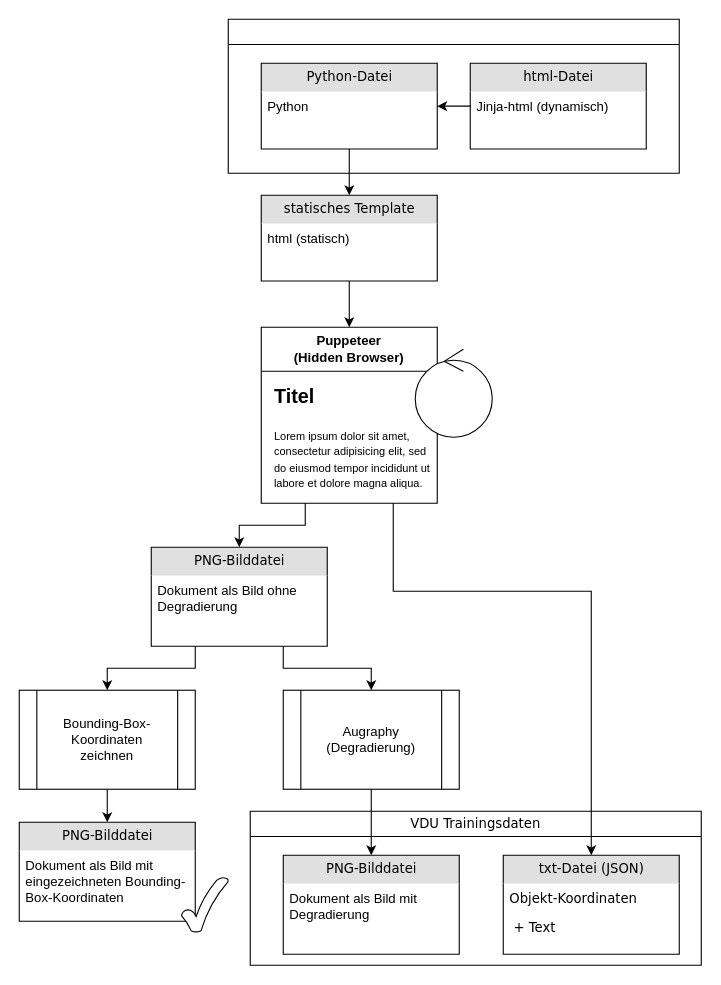
Image size: 721x985. Some labels were removed from this diagram. Here are the shapes that lost their labels. From the top down, the centre of each, then its label:
the point at 453,95: Variables Template
the point at 453,392: Analyse
